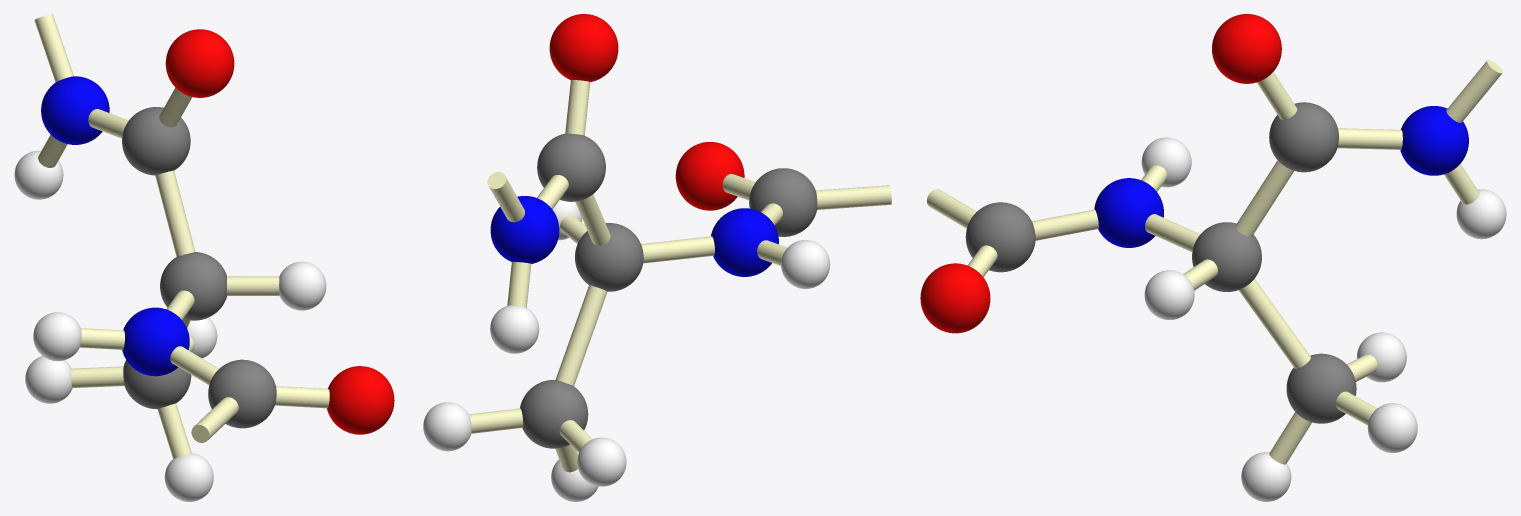
File: conformation.gltf
3 renders of one model, left to right at view 1: azimuth 30°, elevation 25°; view 2: azimuth 150°, elevation 25°; view 3: azimuth 270°, elevation 25°, orthographic.
Parts seen in each view (by area): view 1: ?????????6, ?????????2, ?????????3, ?????????5, ?????????13, ?????????1, ?????????4, ?????????9, ?????????7, ?????????8, ?????????10, ?????????12 (+15 smaller); view 2: ?????????6, ?????????2, ?????????4, ?????????5, ?????????3, ?????????9, ?????????13, ?????????1, ?????????22, ?????????12, ?????????7, ?????????11 (+14 smaller); view 3: ?????????2, ?????????6, ?????????13, ?????????5, ?????????3, ?????????9, ?????????1, ?????????4, ?????????22, ?????????8, ?????????11, ?????????10 (+13 smaller).
Boxes of the visible parts, box(x1,y1,x2,y2) form: ?????????6: box(165, 29, 234, 97); ?????????2: box(327, 366, 394, 434); ?????????3: box(122, 307, 189, 376); ?????????5: box(122, 107, 190, 175); ?????????13: box(41, 76, 109, 144); ?????????1: box(208, 359, 276, 428); ?????????4: box(160, 252, 226, 320); ?????????9: box(123, 360, 191, 409); ?????????7: box(33, 312, 81, 361); ?????????8: box(279, 261, 326, 310); ?????????10: box(164, 453, 213, 501); ?????????12: box(25, 356, 72, 403); ?????????6: box(549, 14, 618, 81); ?????????2: box(675, 142, 744, 210); ?????????4: box(575, 223, 643, 291); ?????????5: box(537, 133, 605, 201); ?????????3: box(711, 208, 778, 276); ?????????9: box(520, 380, 588, 448); ?????????13: box(490, 196, 559, 263); ?????????1: box(749, 168, 817, 236); ?????????22: box(555, 285, 607, 386); ?????????12: box(577, 437, 626, 486); ?????????7: box(781, 240, 830, 288); ?????????11: box(423, 402, 471, 451); ?????????2: box(920, 263, 990, 333); ?????????6: box(1212, 14, 1281, 83); ?????????13: box(1400, 106, 1468, 175); ?????????5: box(1269, 102, 1338, 172); ?????????3: box(1094, 178, 1163, 247); ?????????9: box(1286, 353, 1356, 423); ?????????1: box(965, 202, 1035, 272); ?????????4: box(1192, 222, 1261, 291); ?????????22: box(1238, 278, 1310, 368); ?????????8: box(1144, 270, 1194, 319); ?????????11: box(1367, 403, 1417, 452); ?????????10: box(1241, 452, 1291, 501).
Bounding box in the file's own units: 33.92 × 53.26 × 58.58.
